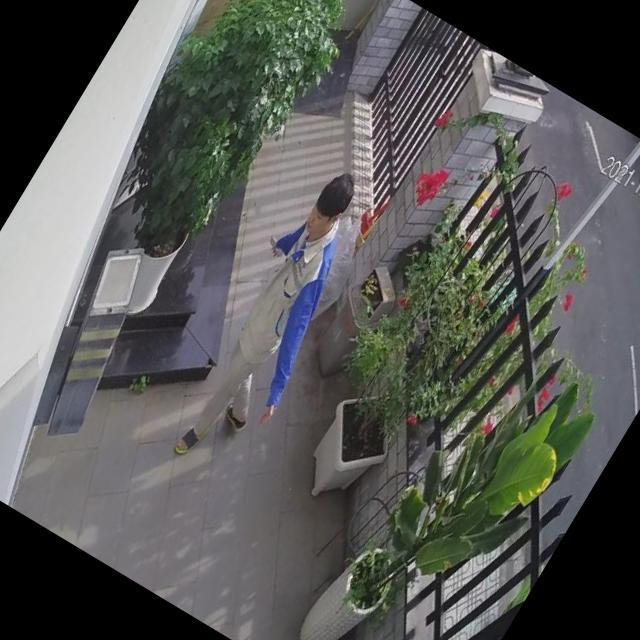person: (156, 160, 400, 483)
